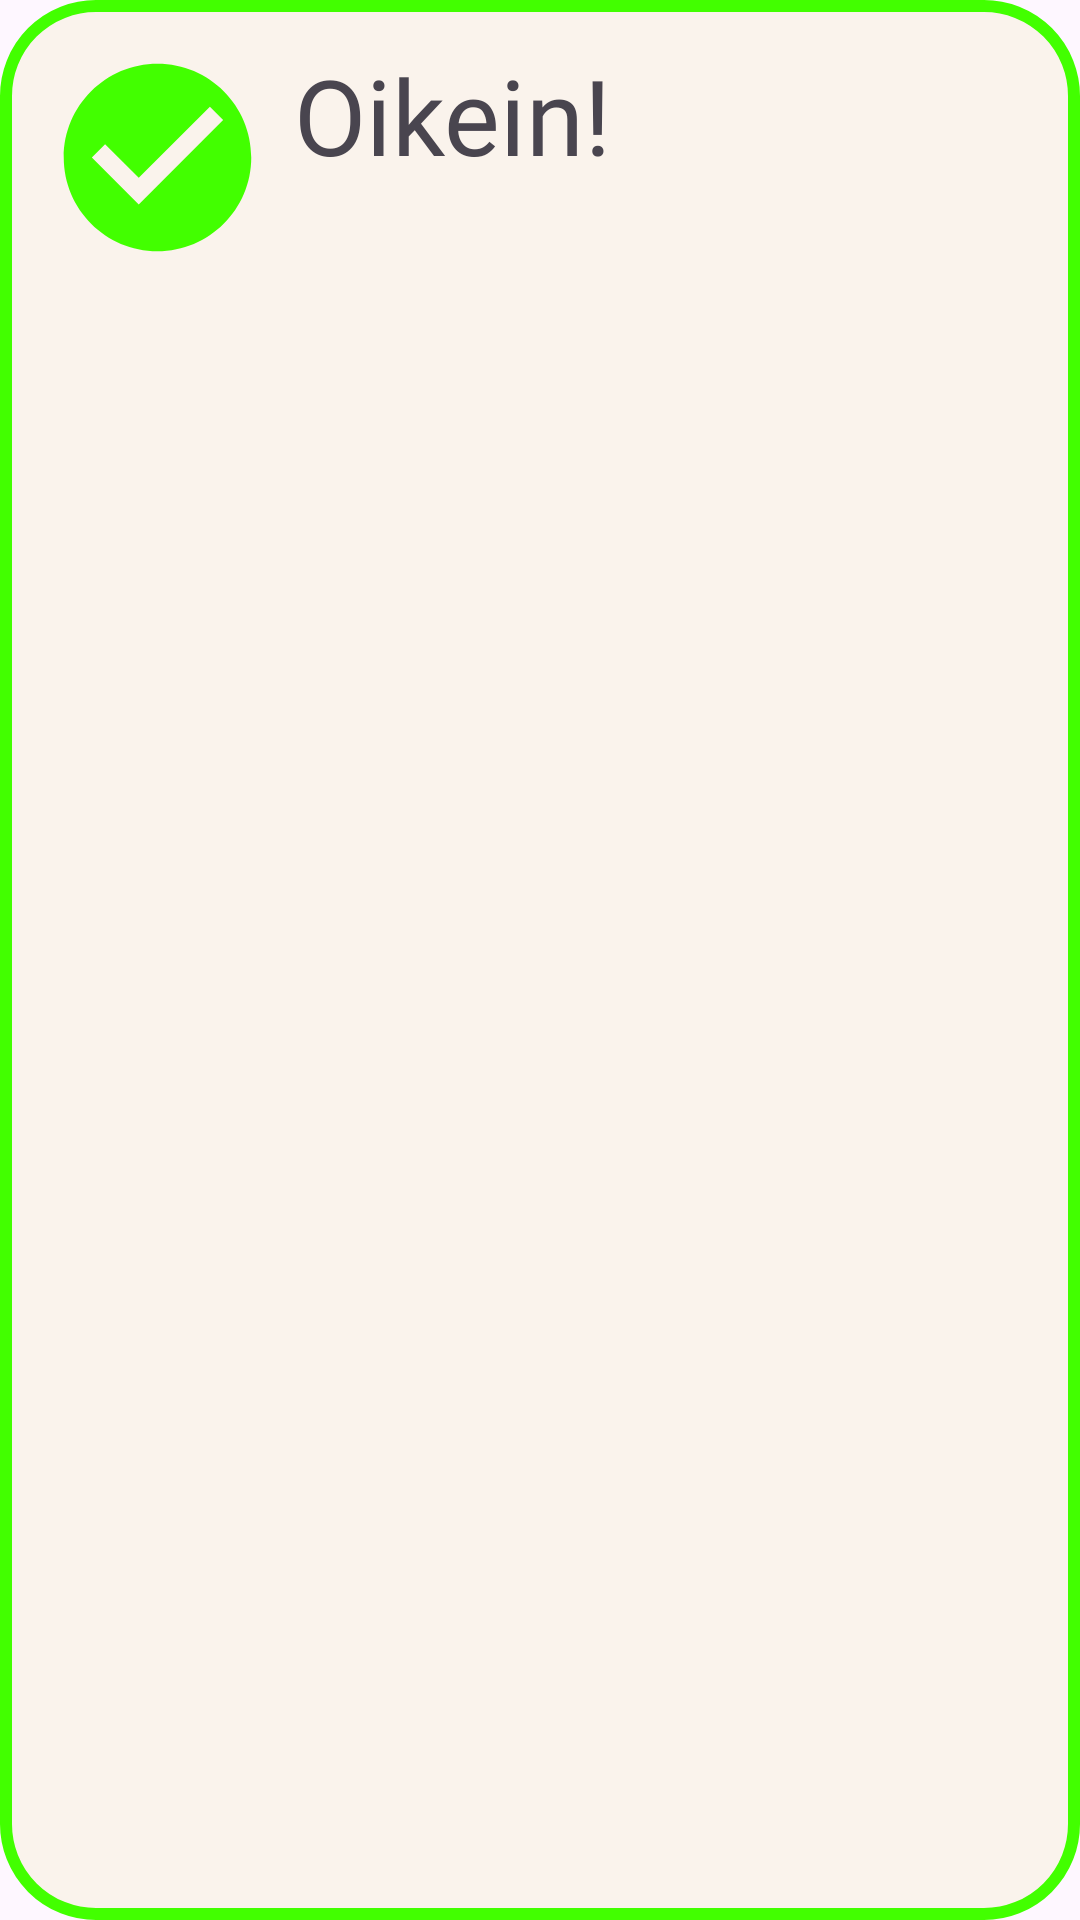

Icons on this 1080x1920 Android screen, each with the point to tap as (x,y):
correct popup: (157,157)
